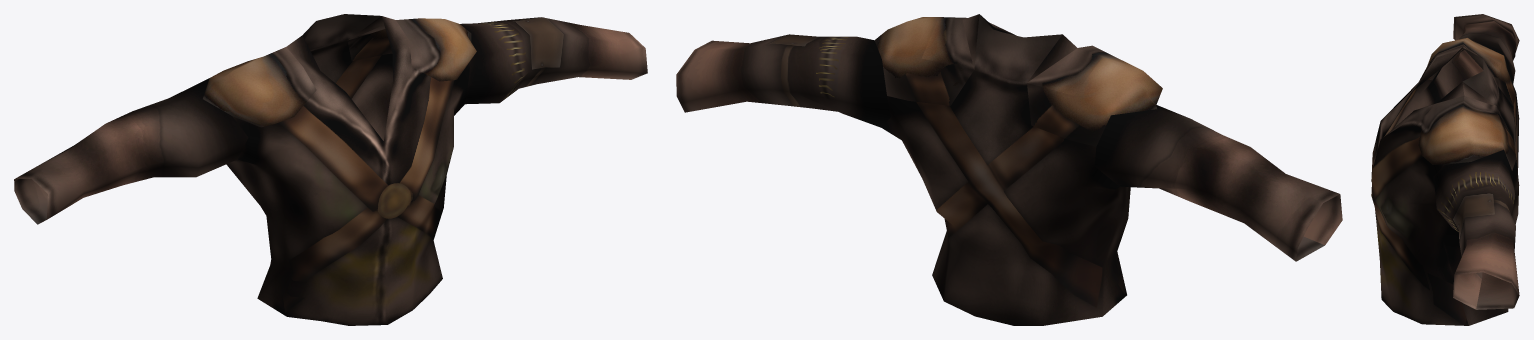
Rendered from combatjacket5_jacket.obj.
3 renders of one model, left to right at view 1: azimuth 30°, elevation 25°; view 2: azimuth 150°, elevation 25°; view 3: azimuth 270°, elevation 25°, orthographic. The views are drawn at different scales.
Visible parts, largest first — view 1: cljacket; view 2: cljacket; view 3: cljacket.
Part boxes in pixels (bbox=[...]): cljacket: bbox=[14, 14, 647, 325]; cljacket: bbox=[676, 14, 1342, 325]; cljacket: bbox=[1371, 14, 1519, 325].
Bounding box in the file's own units: 79.43 × 33.59 × 19.17.
Materials: 1 (1 with a texture image).
